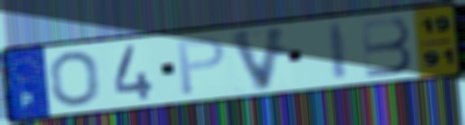4: (113, 43, 156, 102)
B: (358, 15, 415, 80)
I: (326, 20, 351, 82)
O: (47, 49, 103, 108)
P: (175, 35, 228, 98)
V: (226, 24, 291, 94)
